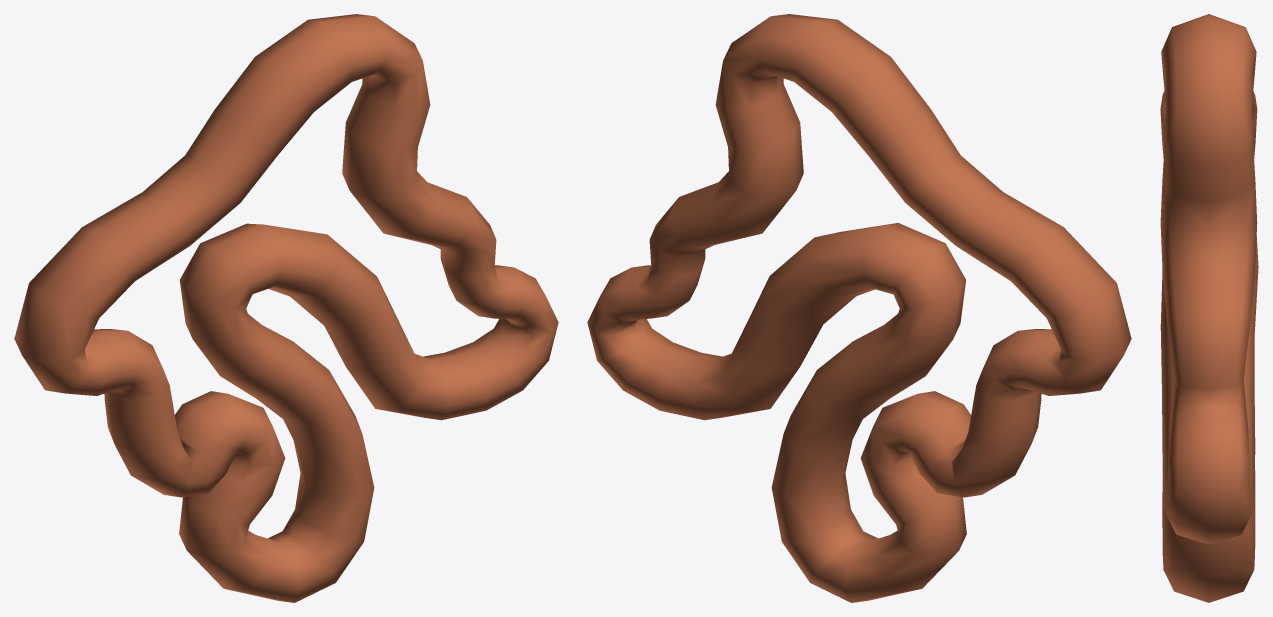
File: giantLianaNoLeaves.glb
The picture shows the model from 3 angles, left to right: view 1: azimuth 30°, elevation 25°; view 2: azimuth 150°, elevation 25°; view 3: azimuth 270°, elevation 25°; orthographic projection. The views are drawn at different scales.
Parts seen in each view (by area): view 1: GiantRoot.001; view 2: GiantRoot.001; view 3: GiantRoot.001.
Part boxes in pixels (x1,y1,x2,y2): GiantRoot.001: (14,14,558,602); GiantRoot.001: (587,14,1131,602); GiantRoot.001: (1160,14,1258,602).
Size of the model in its own units: 29.74 by 30.55 by 4.54.
1 material, 1 textured.
